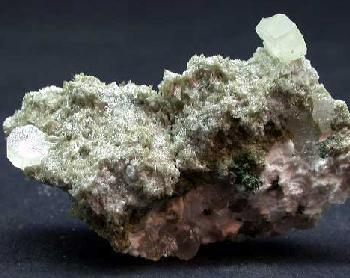calcite: (257, 14, 308, 62), (6, 125, 49, 170), (313, 85, 336, 132), (178, 233, 200, 260)
